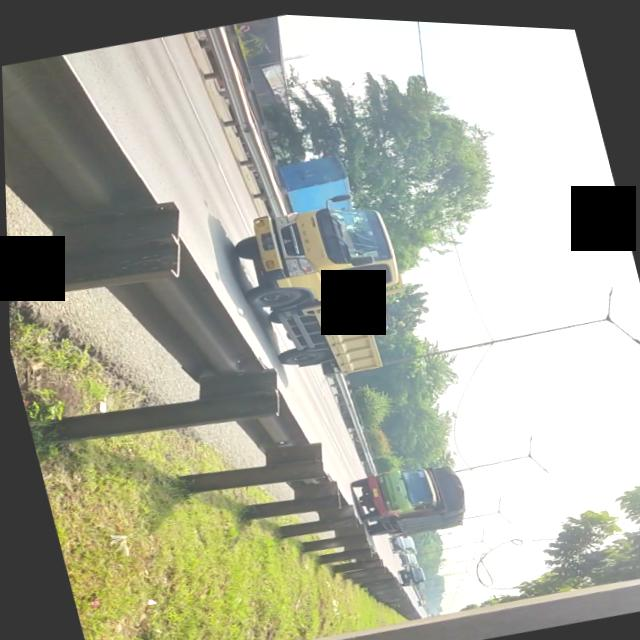Golongan II: (220, 173, 430, 397)
